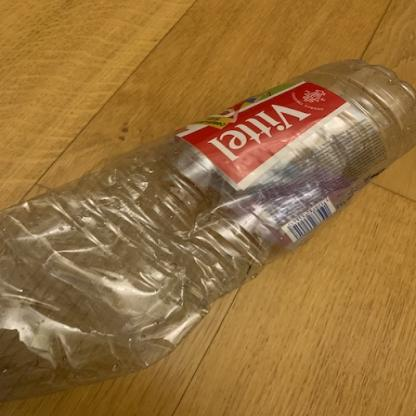trash: (0, 42, 412, 405)
